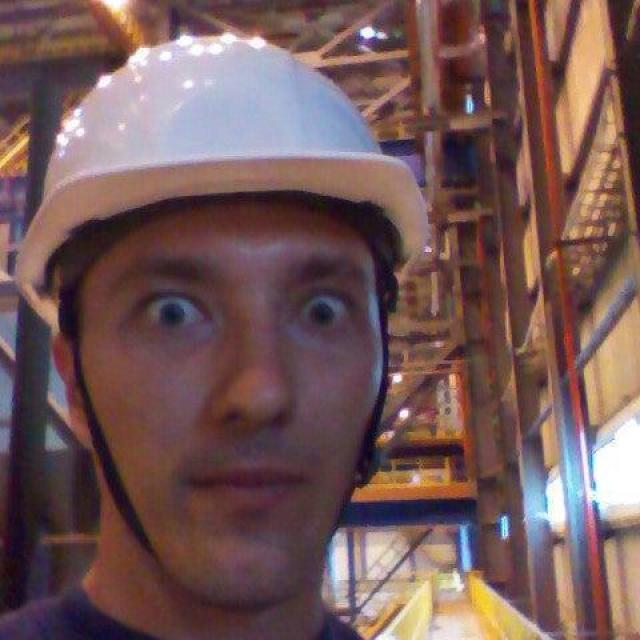helmet: (11, 33, 428, 328)
